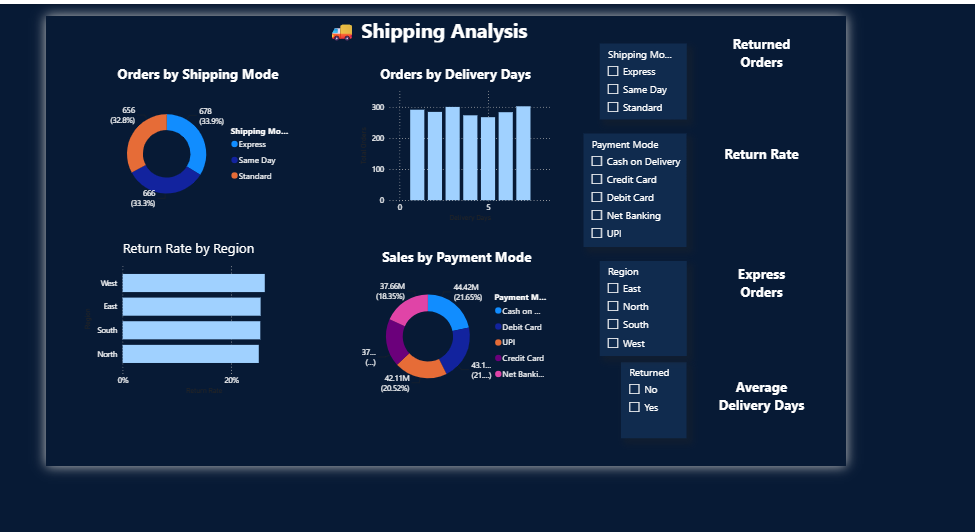

What the dashboard file says about the page in this screenshot:
{"tool":"powerbi","page":{"name":"Shipping Analysis","canvas":[1280,720],"ordinal":4},"visuals":[{"type":"shape","title":"🚚 Shipping Analysis","box":[198.9,0,825.7,59.9],"z":0},{"type":"slicer","fields":{"Values":["Fact_Sales.Returned"]},"box":[919.8,554,104.8,121.9],"z":1000},{"type":"slicer","fields":{"Values":["Fact_Sales.Payment Mode"]},"box":[859.9,188.2,164.7,181.8],"z":2000},{"type":"slicer","fields":{"Values":["Fact_Sales.Shipping Mode"]},"box":[885.6,44.9,139,121.9],"z":3000},{"type":"slicer","fields":{"Values":["Fact_Sales.Region"]},"box":[885.6,391.4,139,151.9],"z":4000},{"type":"donutChart","title":"Orders by Shipping Mode","fields":{"Category":["Fact_Sales.Shipping Mode"],"Y":["Fact_Sales.Total Orders"]},"box":[85.6,77,314.4,256.7],"z":5000},{"type":"clusteredColumnChart","title":"Orders by Delivery Days","fields":{"Category":["Fact_Sales.Delivery Days"],"Y":["Fact_Sales.Total Orders"]},"box":[498.4,77,314.4,256.7],"z":6000},{"type":"clusteredBarChart","fields":{"Y":["Fact_Sales.Return Rate"],"Category":["Fact_Sales.Region"]},"box":[55.6,355.1,344.4,254.5],"z":7000},{"type":"donutChart","title":"Sales by Payment Mode","fields":{"Y":["Fact_Sales.Total Sales"],"Category":["Fact_Sales.Payment Mode"]},"box":[500.5,370.1,314.4,256.7],"z":8000},{"type":"kpi","fields":{"Indicator":["Dim_Date.Average Delivery Days"]},"box":[1069.5,577.5,149.7,143],"z":9000},{"type":"kpi","fields":{"Indicator":["Dim_Date.Express Orders"]},"box":[1069.5,397.9,149.7,143],"z":10000},{"type":"kpi","fields":{"Indicator":["Fact_Sales.Return Rate"]},"box":[1069.5,205.4,149.7,149.7],"z":11000},{"type":"kpi","fields":{"Indicator":["Fact_Sales.Returned Orders"]},"box":[1069.5,29.9,149.7,149.7],"z":12000}]}

Visuals, with their boxes on the page's 1280x720 design canvas (x1, y1, x2, y2). These are canvas units, not pixel positions in the 975x532 screenshot, which may show the page scaled, cropped or inside an application window:
"🚚 Shipping Analysis" shape: [199,0,1025,60]
slicer - Fact_Sales.Returned: [920,554,1025,676]
slicer - Fact_Sales.Payment Mode: [860,188,1025,370]
slicer - Fact_Sales.Shipping Mode: [886,45,1025,167]
slicer - Fact_Sales.Region: [886,391,1025,543]
"Orders by Shipping Mode" donutChart: [86,77,400,334]
"Orders by Delivery Days" clusteredColumnChart: [498,77,813,334]
clusteredBarChart - Fact_Sales.Return Rate x Fact_Sales.Region: [56,355,400,610]
"Sales by Payment Mode" donutChart: [500,370,815,627]
kpi - Dim_Date.Average Delivery Days: [1070,578,1219,720]
kpi - Dim_Date.Express Orders: [1070,398,1219,541]
kpi - Fact_Sales.Return Rate: [1070,205,1219,355]
kpi - Fact_Sales.Returned Orders: [1070,30,1219,180]
